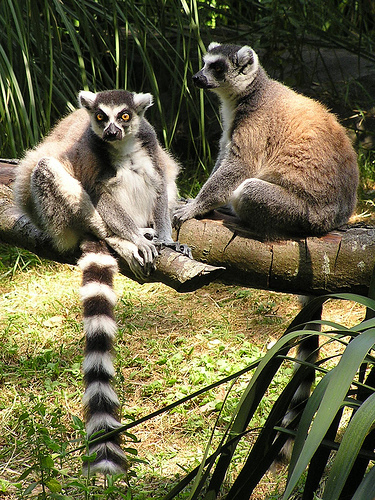cat: (171, 40, 362, 473), (11, 85, 185, 477)
